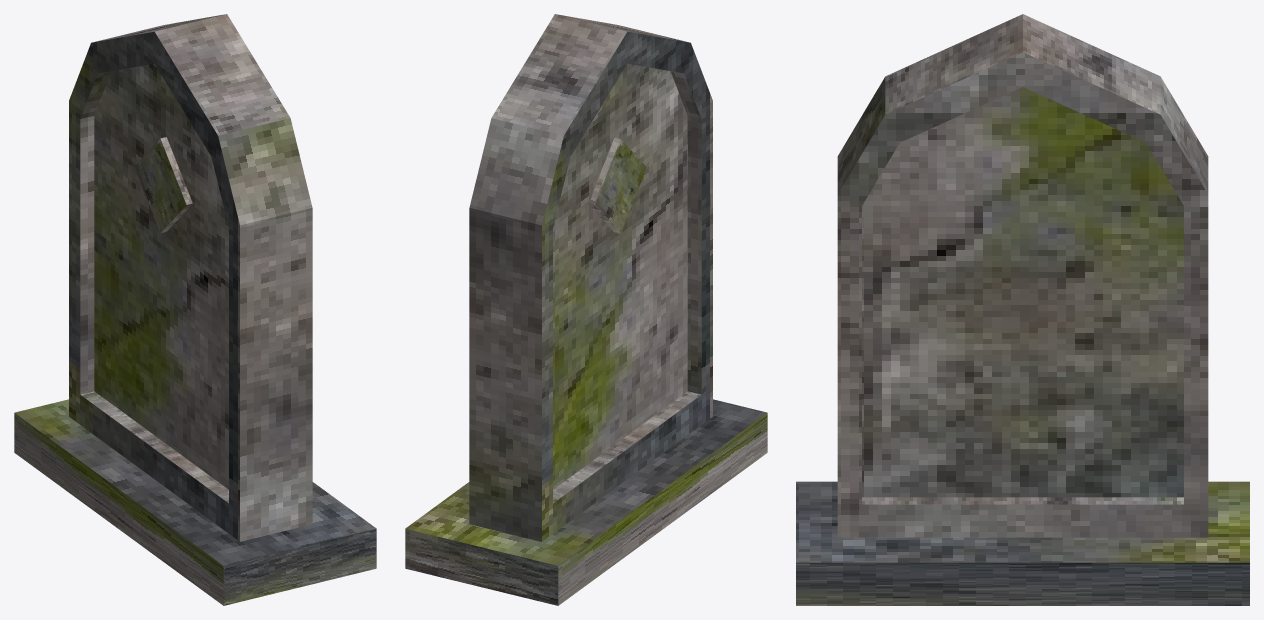
Rendered from Tomb.glb.
The picture shows the model from 3 angles, left to right: view 1: azimuth 30°, elevation 25°; view 2: azimuth 150°, elevation 25°; view 3: azimuth 270°, elevation 25°; orthographic projection. The views are drawn at different scales.
Parts seen in each view (by area): view 1: Plane, Cube, Plane.001; view 2: Plane, Cube, Plane.001; view 3: Plane, Cube.
Boxes of the visible parts, box(x1,y1,x2,y2) form: Plane: box(69, 14, 312, 541); Cube: box(14, 399, 376, 605); Plane.001: box(134, 137, 192, 233); Plane: box(469, 14, 712, 541); Cube: box(405, 399, 767, 605); Plane.001: box(588, 137, 646, 233); Plane: box(837, 14, 1208, 537); Cube: box(796, 481, 1249, 605).
Bounding box in the file's own units: 0.4361 × 1.33 × 1.03.
1 material, 1 textured.
